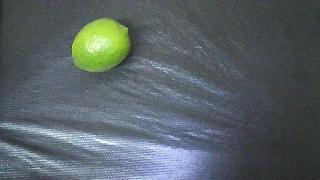LOCAL: (72, 18, 131, 72)
